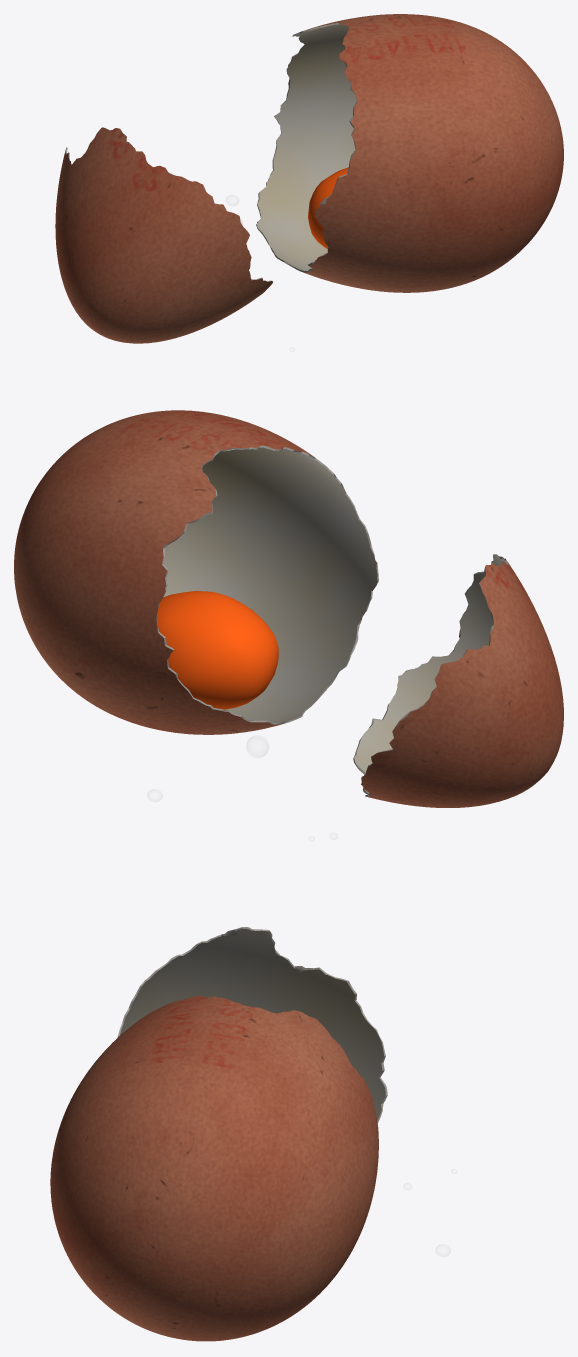
3 renders of one model, top to bottom at view 1: azimuth 30°, elevation 25°; view 2: azimuth 150°, elevation 25°; view 3: azimuth 270°, elevation 25°, orthographic. The views are drawn at different scales.
Parts seen in each view (by area): view 1: Bake_target, Bake_target.001, jaune; view 2: Bake_target, Bake_target.001, jaune, Bulles; view 3: Bake_target, Bake_target.001.
Part boxes in pixels (x1,y1,x2,y2): Bake_target: [256, 14, 563, 292]; Bake_target.001: [55, 127, 272, 343]; jaune: [308, 167, 348, 249]; Bake_target: [14, 410, 378, 734]; Bake_target.001: [353, 554, 563, 807]; jaune: [157, 591, 278, 709]; Bulles: [147, 735, 337, 840]; Bake_target: [50, 995, 378, 1341]; Bake_target.001: [117, 927, 387, 1123].
Size of what is drawn, in the model's own units: 378 by 201 by 340.
6 materials, 2 textured.
